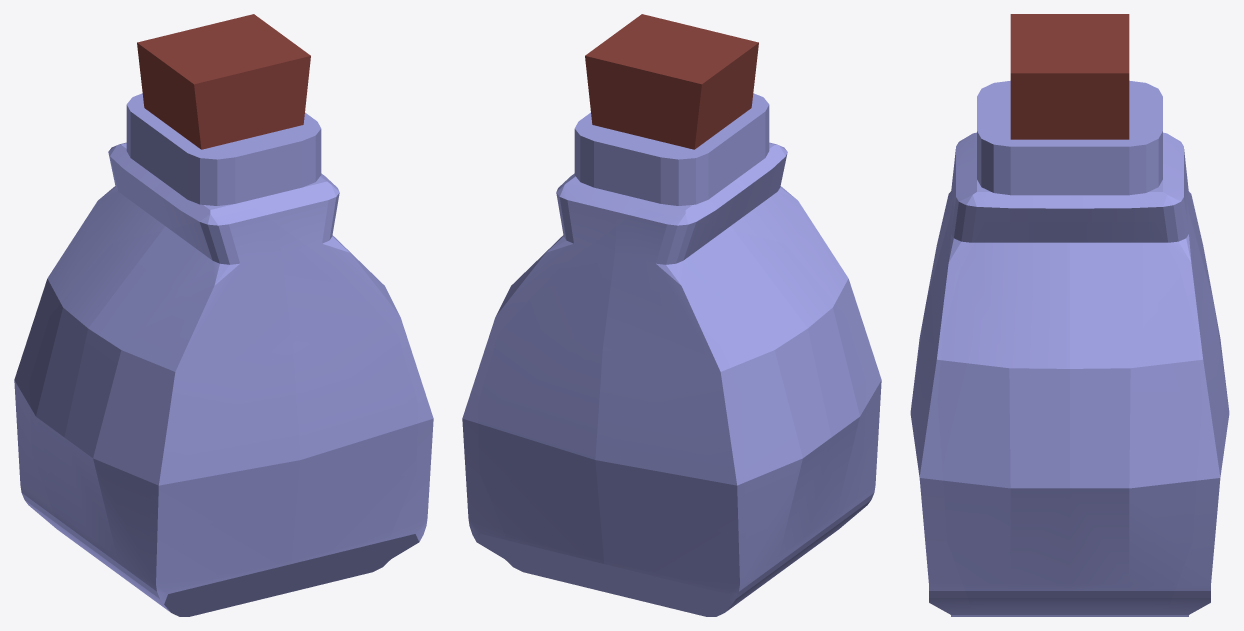
File: CatAntidote.fbx
The picture shows the model from 3 angles, left to right: view 1: azimuth 30°, elevation 25°; view 2: azimuth 150°, elevation 25°; view 3: azimuth 270°, elevation 25°; orthographic projection. The views are drawn at different scales.
Visible parts, largest first — view 1: Antidote; view 2: Antidote; view 3: Antidote.
Part boxes in pixels (x1,y1,x2,y2): Antidote: [14, 14, 433, 616]; Antidote: [462, 14, 881, 616]; Antidote: [910, 14, 1229, 616].
Size of the model in its own units: 147 by 222 by 123.
